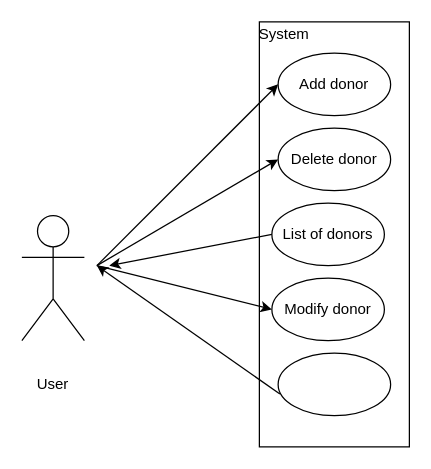
This 431x469 diagram has some shape labels left out. The centre of each missing label's shape, as x and y in pixels:
Actor: pixel 52 277
Find donor: pixel 334 384
